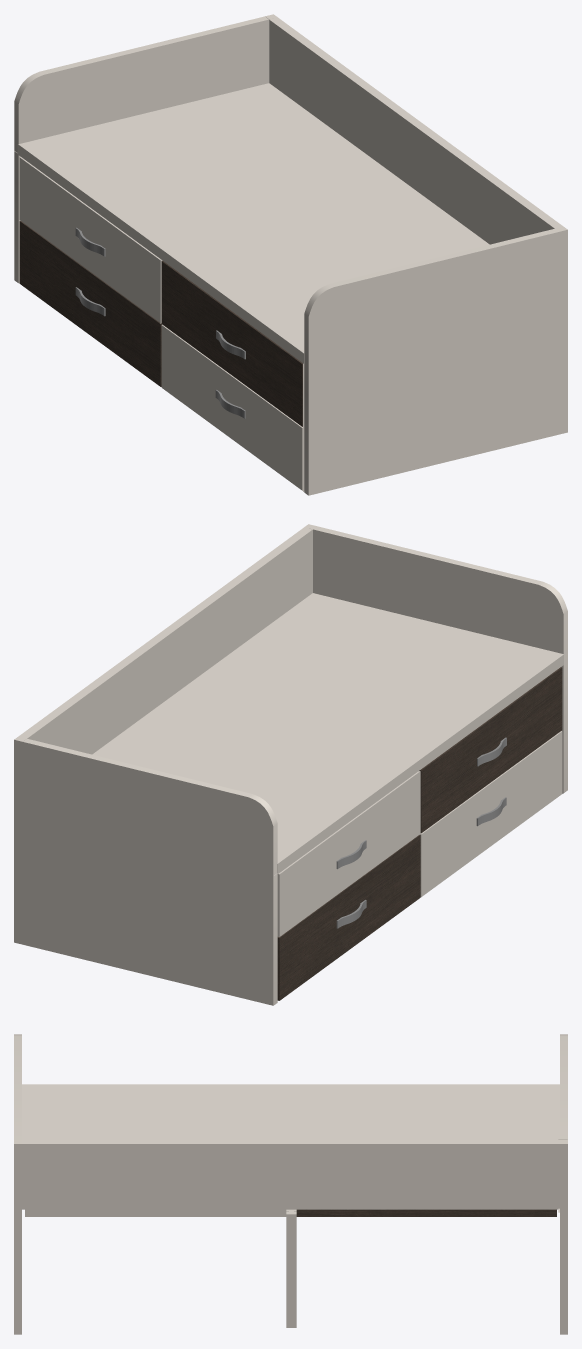
The model's file is Bed.FBX.
3 renders of one model, top to bottom at view 1: azimuth 30°, elevation 25°; view 2: azimuth 150°, elevation 25°; view 3: azimuth 270°, elevation 25°, orthographic. The views are drawn at different scales.
Parts seen in each view (by area): view 1: bed; view 2: bed; view 3: bed.
Part boxes in pixels (<box>): bed: <box>14,14,567,495</box>; bed: <box>14,524,567,1005</box>; bed: <box>14,1034,567,1334</box>.
Size of the model in its own units: 1.06 by 0.7763 by 2.04.
Materials: 2 (1 with a texture image).
